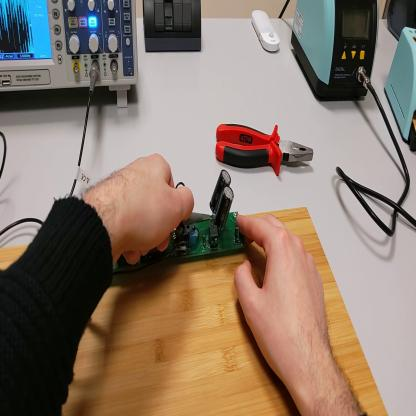hand: (234, 209, 334, 387), (100, 153, 196, 264)
high voltage board: (114, 169, 246, 270)
oscilloscope: (2, 2, 140, 112)
oscilloscope probe tip: (182, 209, 212, 226)
pliers: (213, 116, 315, 183)
socket: (387, 2, 416, 42)
welder base: (388, 24, 416, 152)
welder station: (295, 2, 381, 108)
working area: (2, 200, 387, 416)
